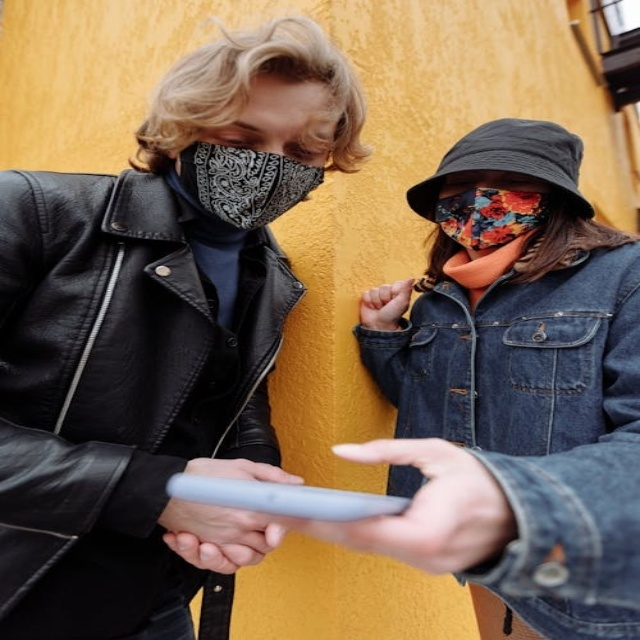Mascara: (184, 141, 325, 229), (435, 186, 552, 249)
Sin_gafas: (200, 103, 340, 168)
Sin_guantes: (289, 436, 522, 576), (154, 457, 308, 573), (351, 273, 420, 332)
